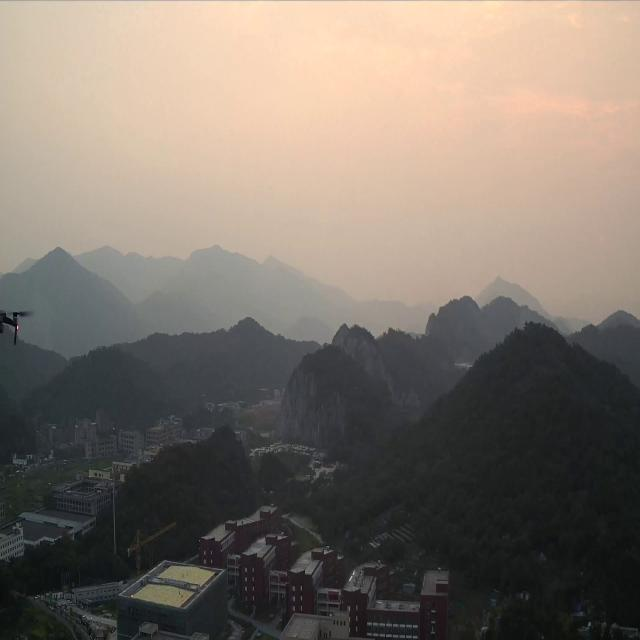UAV: (0, 305, 35, 346)
